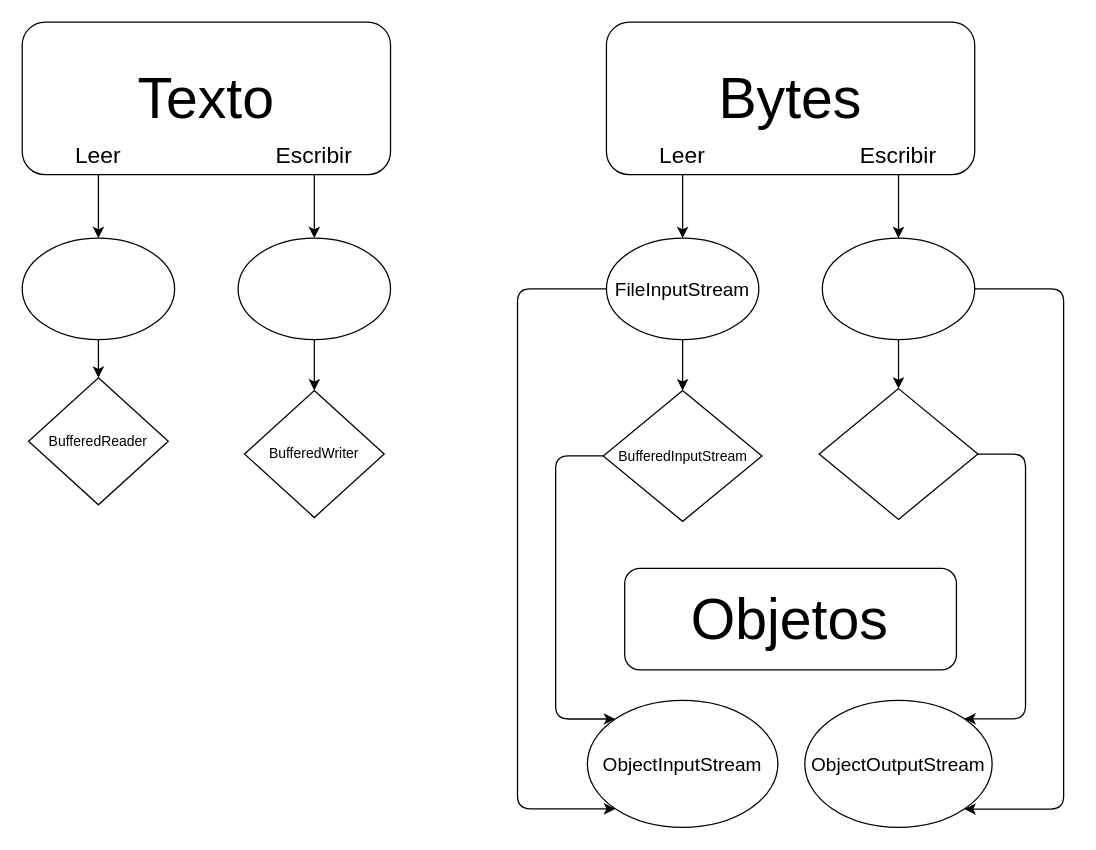
Some shapes in this 1096 by 850 pixel diagram are drawn without their labels. The shapes that lost their labels are listed below. From the top down, each one's centre as x and y in pixels, then its label:
At (98,288): "FileReader".
At (314,288): "FileWriter".
At (898,288): "FileOutputStream".
At (898,453): "BufferedOutputStream".
